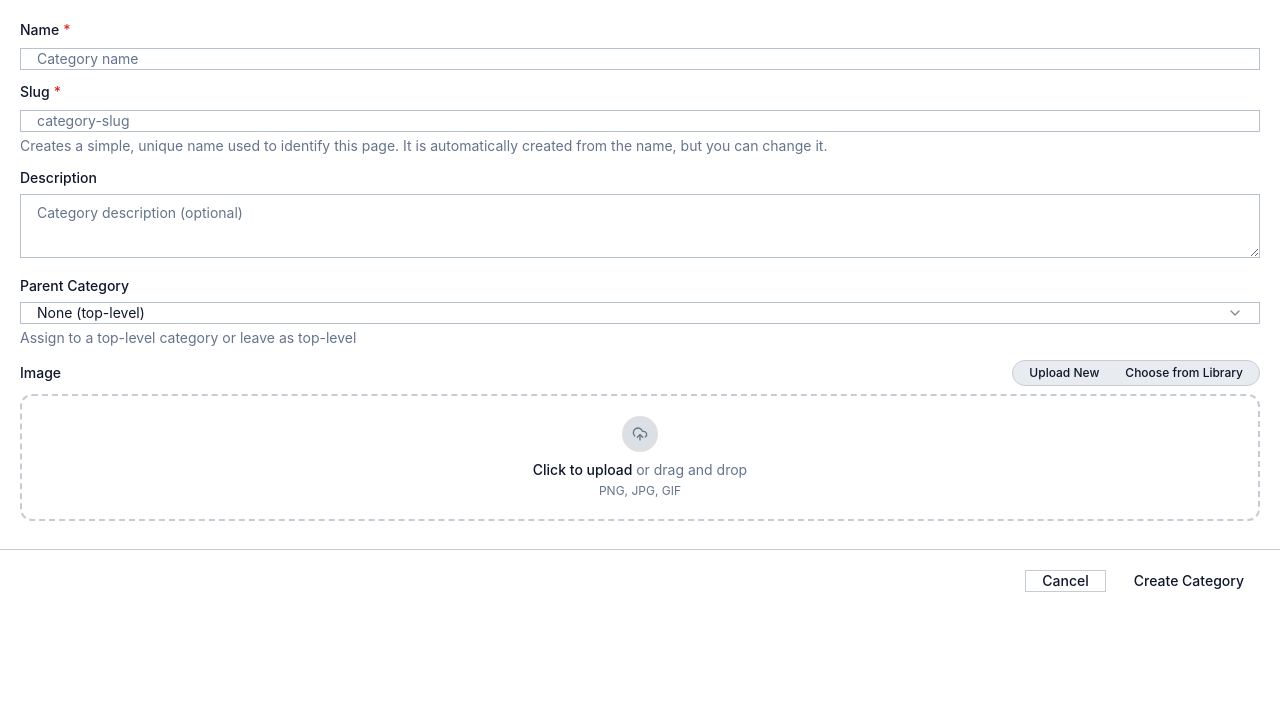
Scenario: CategoryForm library pagination › shows a page indicator and lets Next replace the grid with the next page
What coordinates should you click on to do the following:
click the button "Choose from Library"
I would click on:
 (1184, 373)
Its box is x1=1113 y1=365 x2=1255 y2=381.
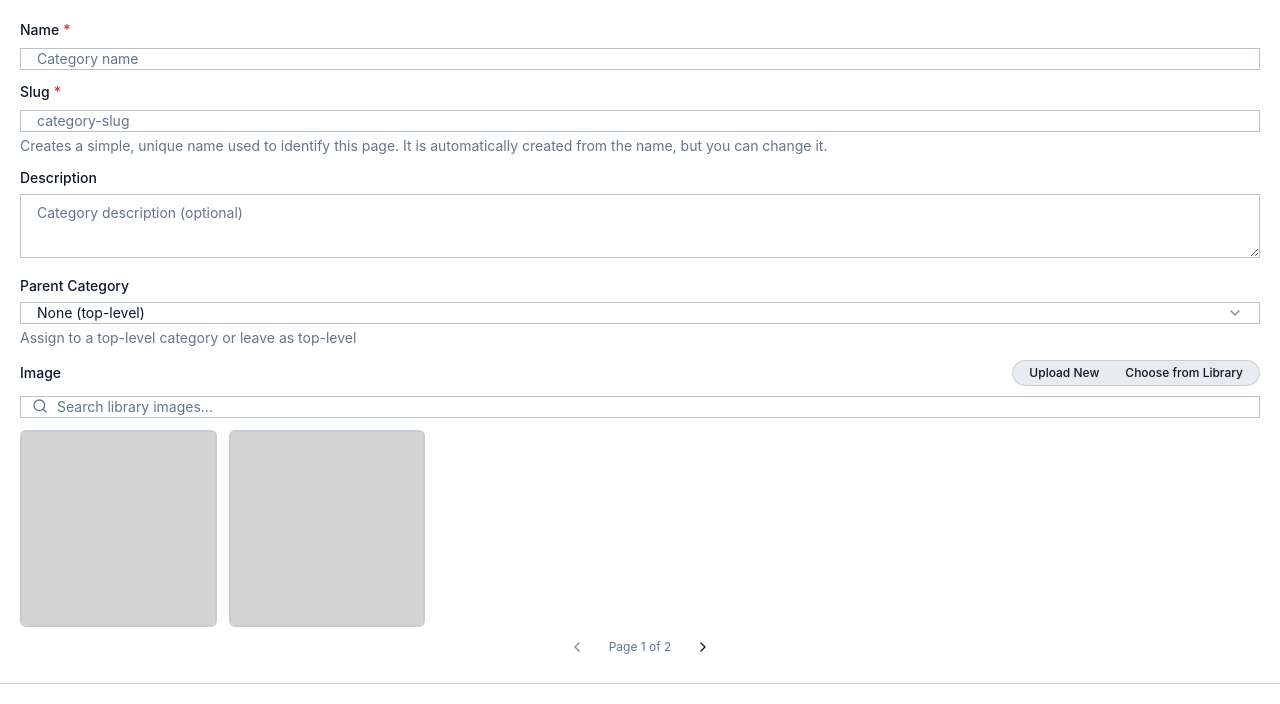
expect the text "Page 1 of 2" is shown: met, box x1=609 y1=639 x2=671 y2=655
expect the button named "Previous page" is disabled: met, box x1=557 y1=639 x2=597 y2=655
What coordinates should you click on to do the following:
click the button named "Next page"
I would click on:
 (703, 647)
Its box is x1=683 y1=639 x2=723 y2=655.
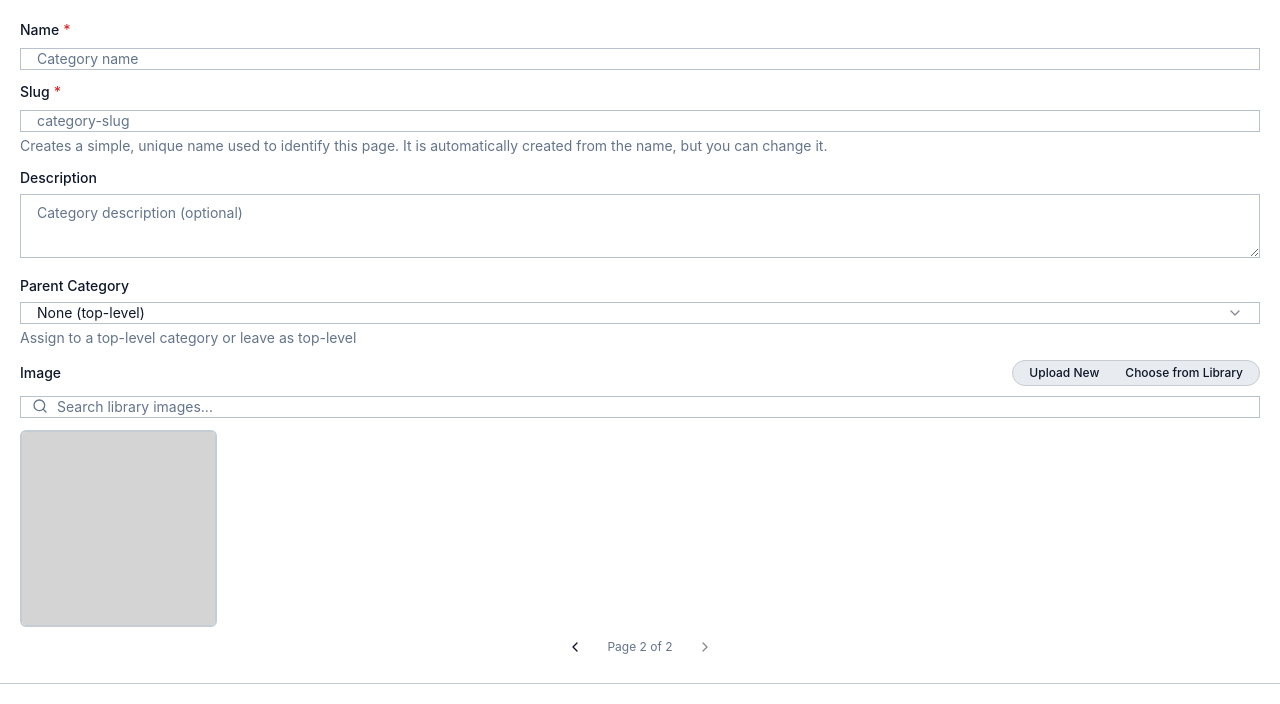
expect the text "Page 2 of 2" is shown: met, box x1=607 y1=639 x2=673 y2=655
expect the button named "Next page" is disabled: met, box x1=685 y1=639 x2=725 y2=655
